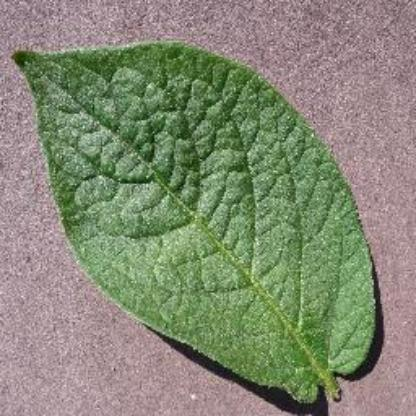Healthy-plant: (13, 29, 393, 405)
